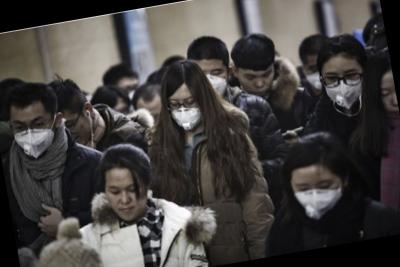with_mask: (290, 174, 348, 226), (11, 110, 60, 161), (322, 64, 369, 112), (167, 90, 206, 133), (201, 63, 232, 98), (301, 60, 325, 93)
without_mask: (103, 177, 153, 225), (237, 64, 279, 99), (62, 112, 96, 148), (378, 82, 400, 124)
